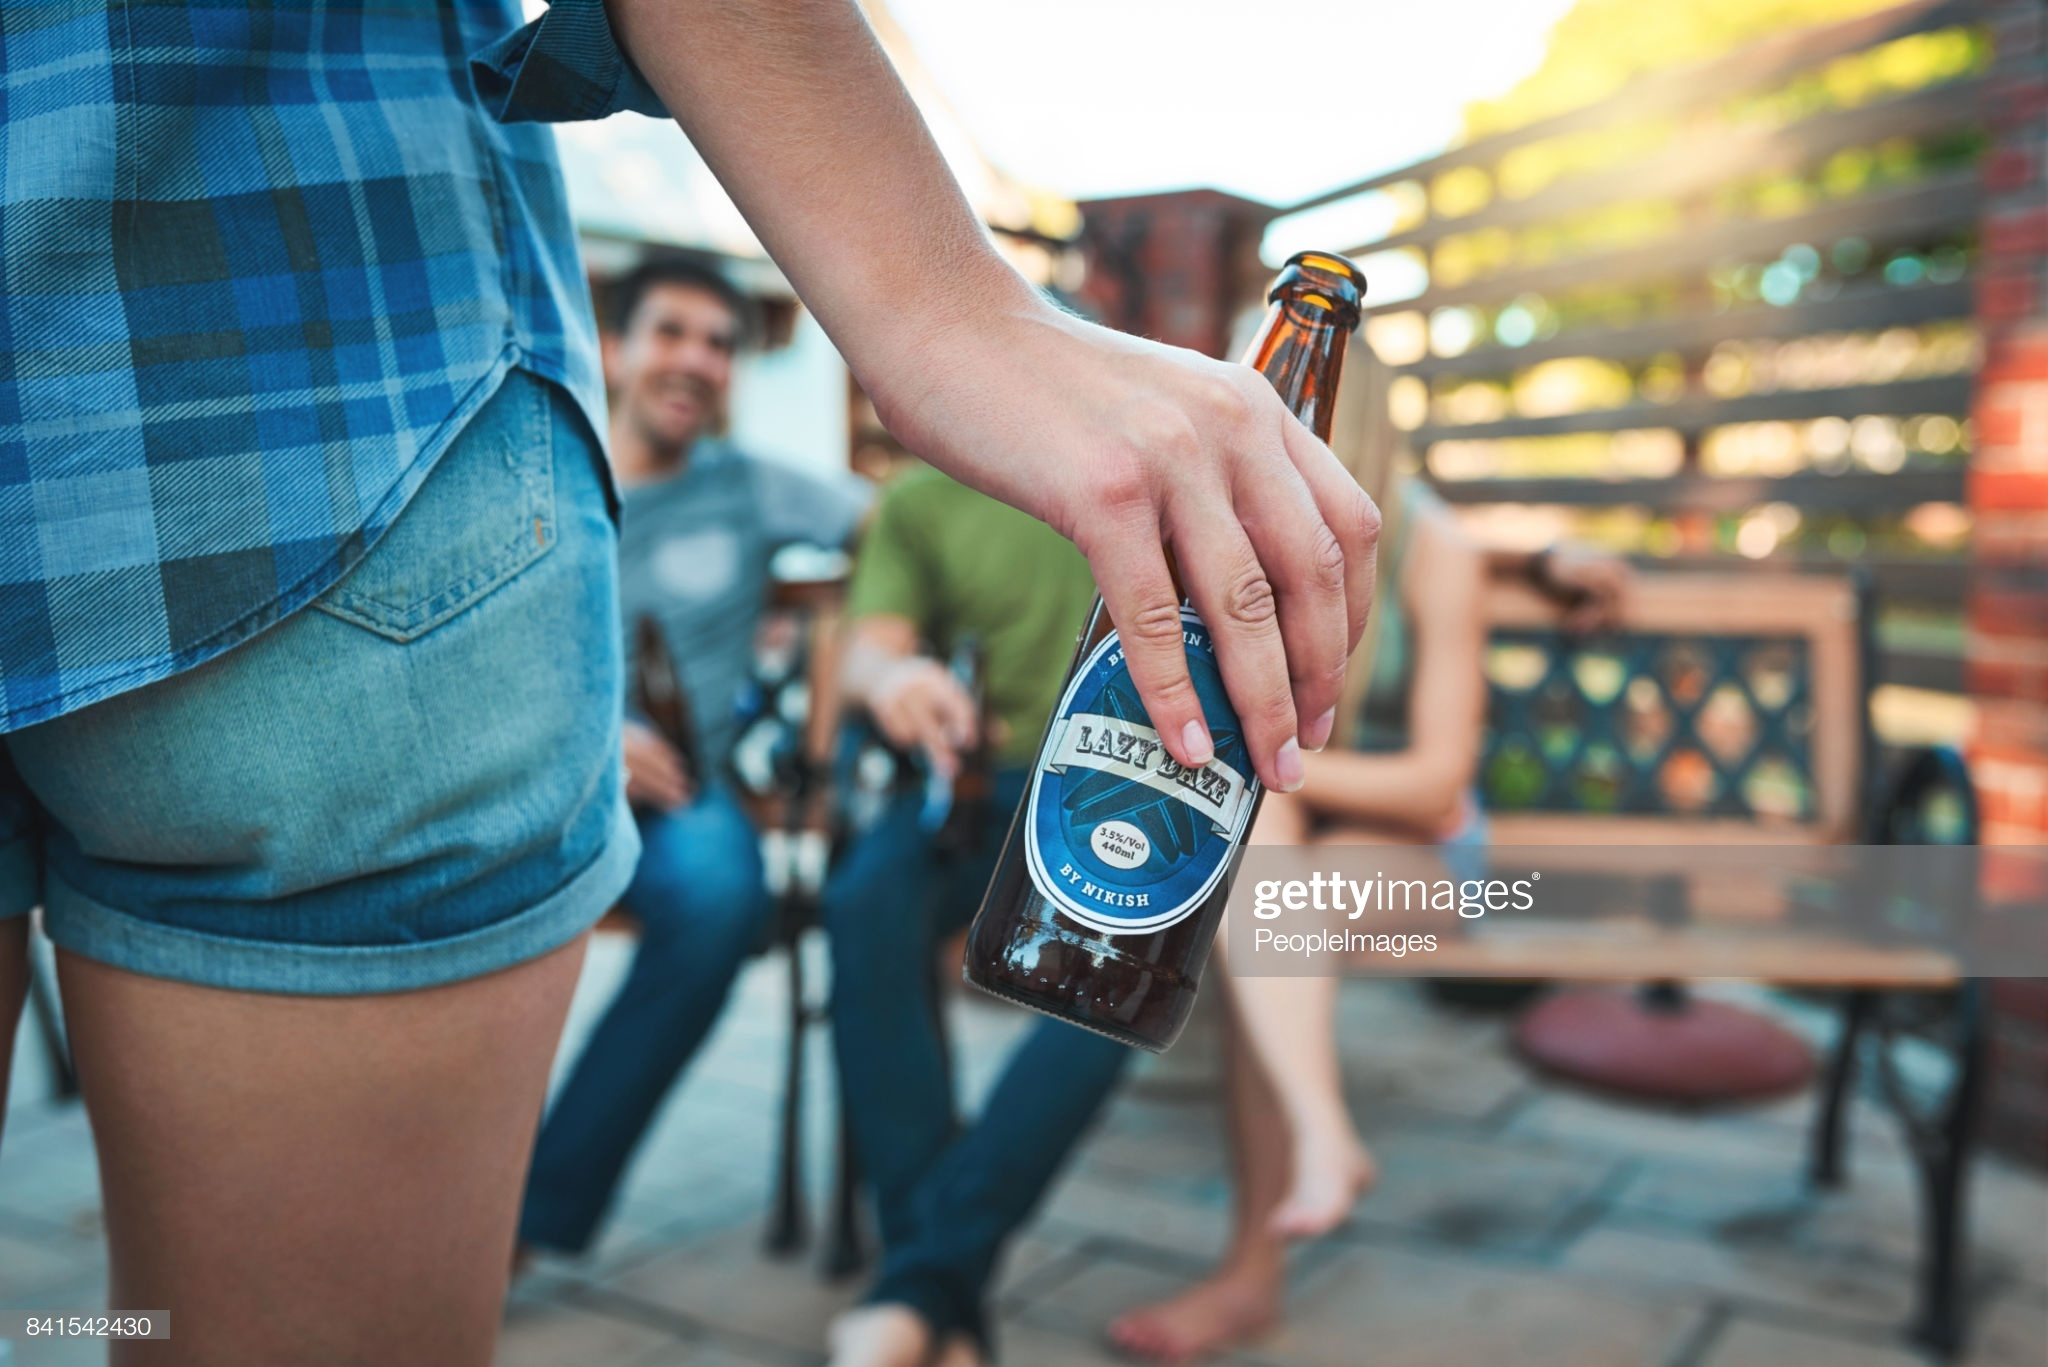beerBottle: (958, 249, 1372, 1028)
